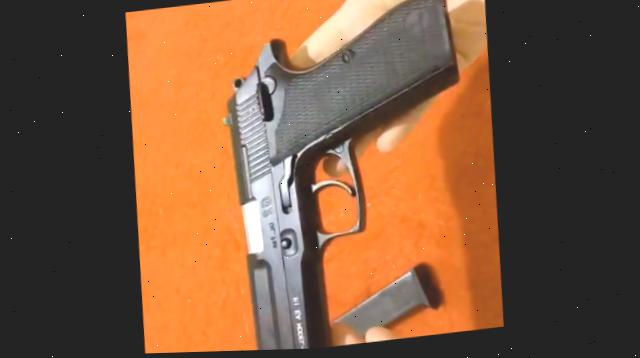pistol: (214, 0, 491, 353)
